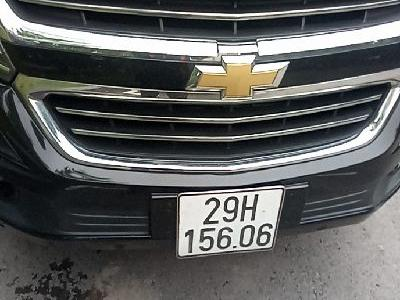car: (177, 185, 286, 260)
